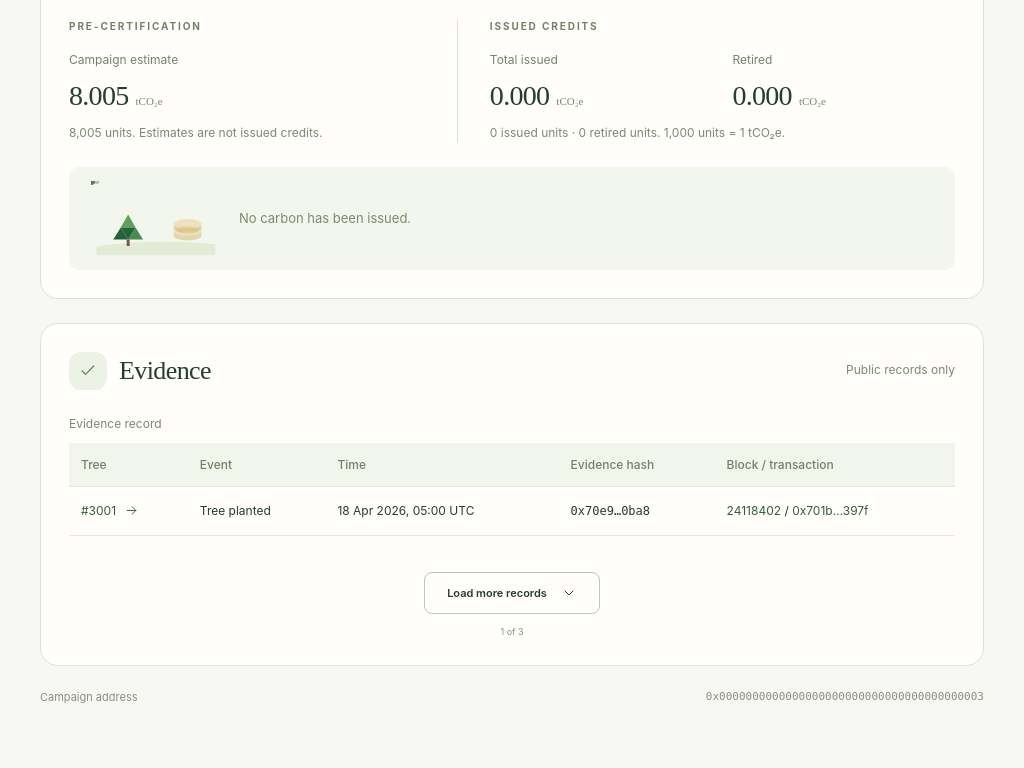
Test: S06 evidence paging › E-5: while the next page is pending the button is busy
(page scrolled)
Click the button with test id "evidence-more" at (512, 593), box [424,572,600,614]
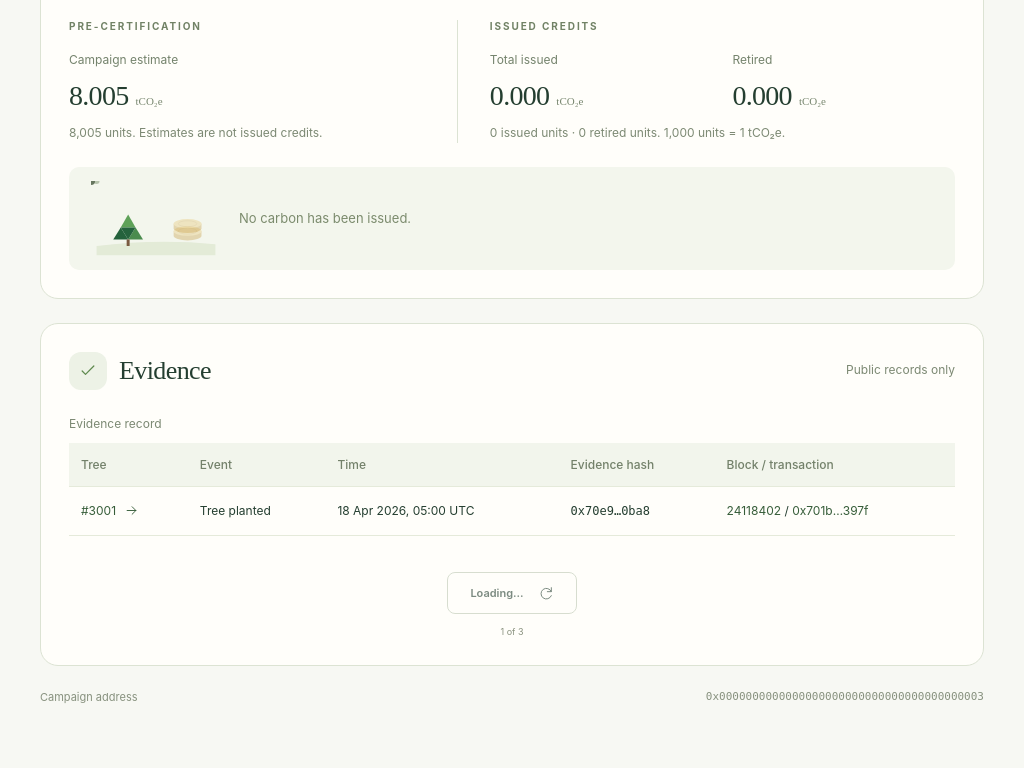
Check: the button with test id "evidence-more" is disabled, box [447,572,577,614]
